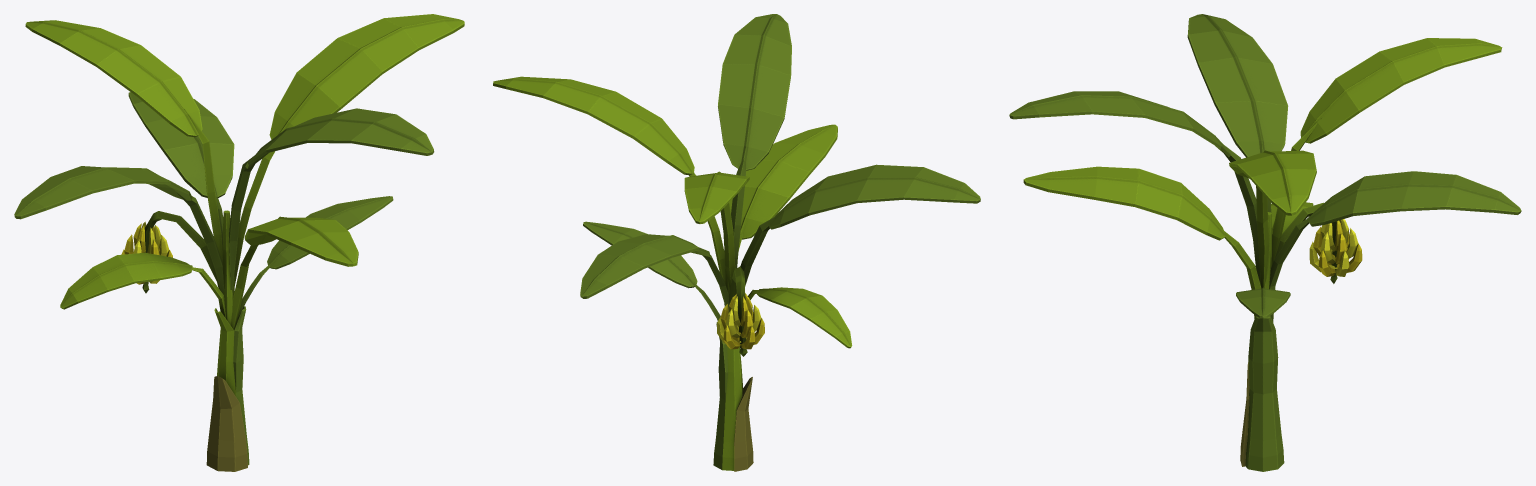
File: Banana Tree.glb
3 views of the same model, side by side, from view 1: azimuth 30°, elevation 25°; view 2: azimuth 150°, elevation 25°; view 3: azimuth 270°, elevation 25° (orthographic). The views are drawn at different scales.
Parts seen in each view (by area): view 1: BananaTree_mesh; view 2: BananaTree_mesh; view 3: BananaTree_mesh.
Boxes of the visible parts, x1=… form: BananaTree_mesh: x1=14, y1=14, x2=464, y2=471; BananaTree_mesh: x1=493, y1=14, x2=980, y2=471; BananaTree_mesh: x1=1009, y1=14, x2=1521, y2=471.
Size of the model in its own units: 18.04 by 13.74 by 16.16.
1 material, 1 textured.
